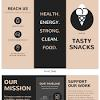paper: (2, 0, 100, 69), (1, 75, 99, 100)
